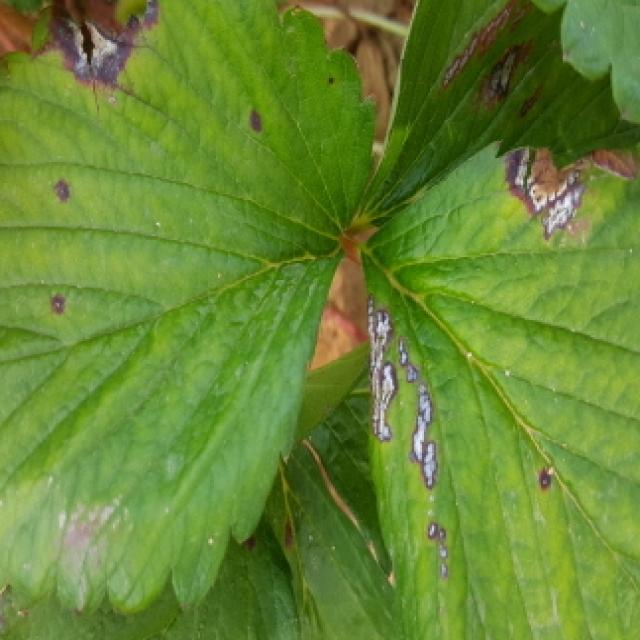Leaf Spot: (0, 0, 377, 624), (357, 137, 640, 640), (0, 341, 403, 640), (352, 0, 640, 233)
